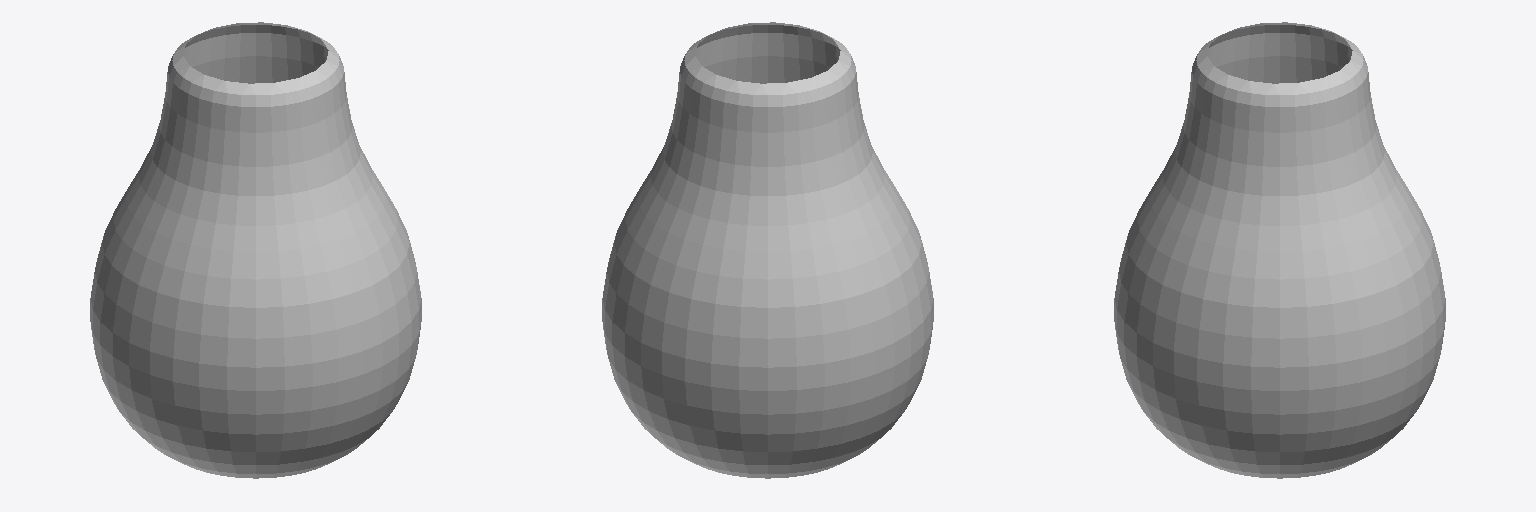
Rendered from FOCO_CUARTO.obj.
The picture shows the model from 3 angles: view 1: azimuth 30°, elevation 25°; view 2: azimuth 150°, elevation 25°; view 3: azimuth 270°, elevation 25°; orthographic projection.
Parts seen in each view (by area): view 1: FOCOS.001; view 2: FOCOS.001; view 3: FOCOS.001.
Boxes of the visible parts, box(x1,y1,x2,y2) form: FOCOS.001: box(90, 22, 421, 478); FOCOS.001: box(602, 22, 933, 478); FOCOS.001: box(1114, 22, 1445, 478).
Bounding box in the file's own units: 0.095 × 0.1284 × 0.095.